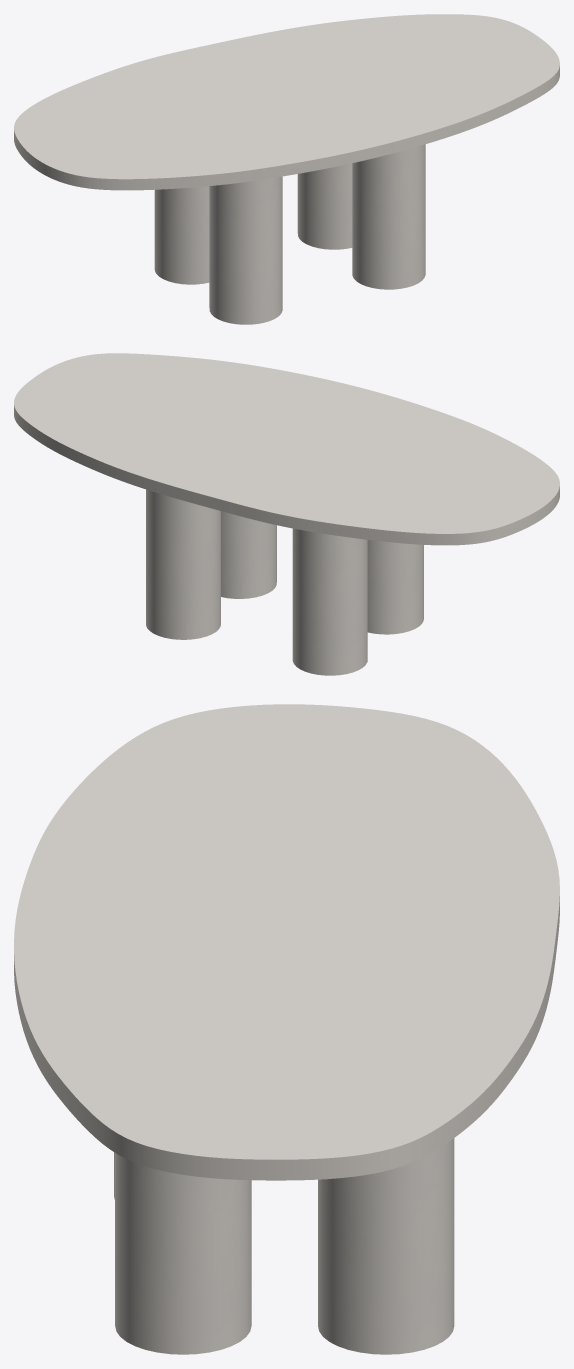
File: pearlwhite_danish_standard_grove.glb
3 views of the same model, one above another, from view 1: azimuth 30°, elevation 25°; view 2: azimuth 150°, elevation 25°; view 3: azimuth 270°, elevation 25° (orthographic). The views are drawn at different scales.
Visible parts, largest first — view 1: standard_danish, grove; view 2: standard_danish, grove; view 3: standard_danish, grove.
Boxes of the visible parts, box(x1,y1,x2,y2) form: standard_danish: box(14, 14, 559, 190); grove: box(154, 144, 425, 324); standard_danish: box(14, 353, 559, 545); grove: box(146, 489, 423, 675); standard_danish: box(14, 704, 559, 1180); grove: box(114, 1138, 454, 1354).
Bounding box in the file's own units: 7.5 × 2.5 × 3.8.
1 material, 1 textured.
